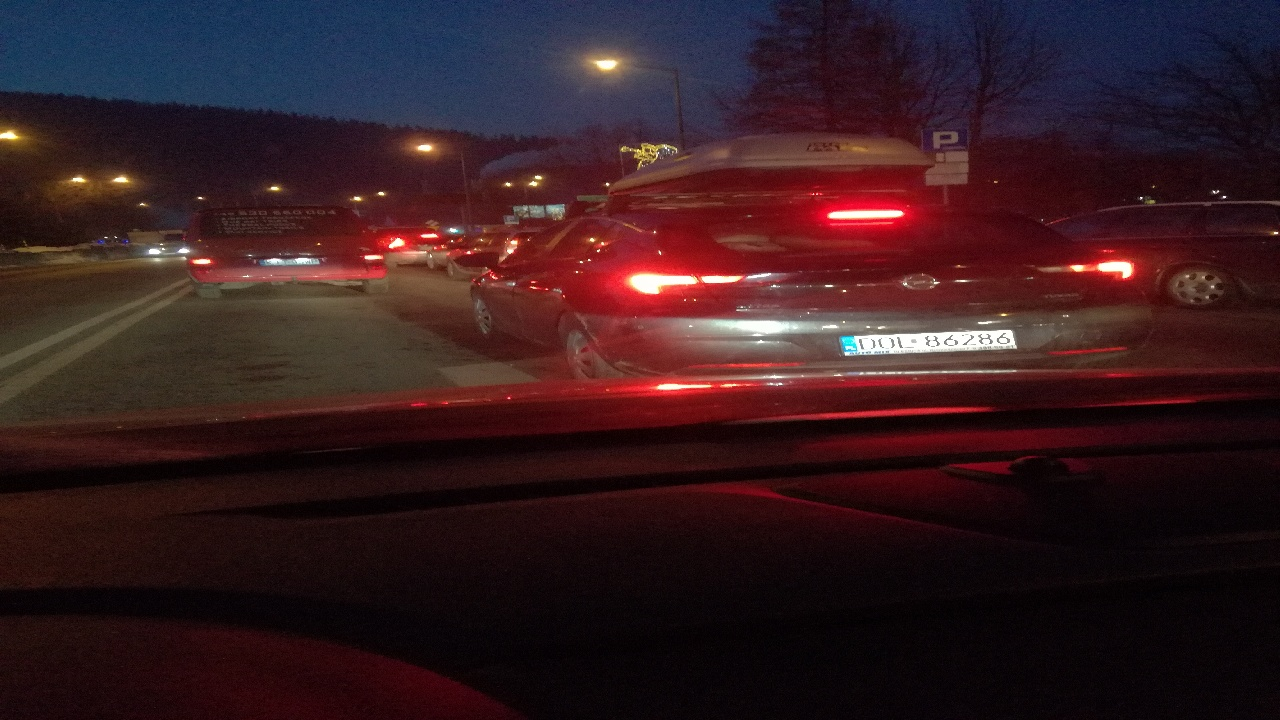D18: (923, 128, 967, 151)
